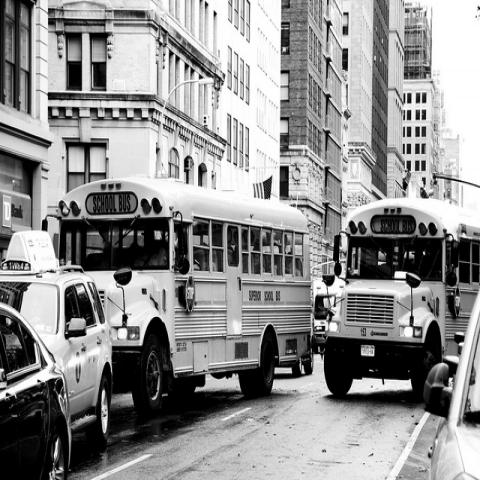bus: (47, 169, 321, 420), (321, 197, 479, 401)
car: (0, 228, 116, 450), (2, 303, 72, 473), (422, 282, 480, 479)
